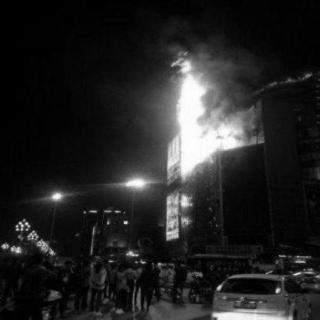Fire: (163, 52, 263, 154)
